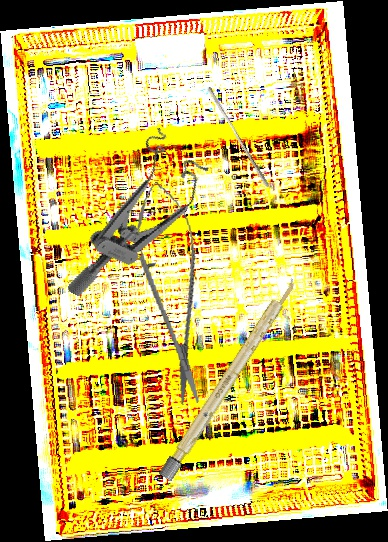Micro Scissor: (126, 177, 220, 409)
Pusher: (203, 85, 274, 189)
Scalpel Handle: (158, 275, 300, 482)
Speculum: (66, 120, 216, 324)
